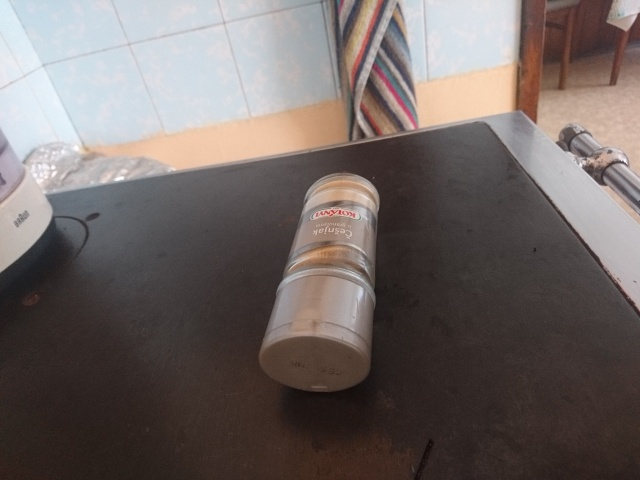Kotanyi Garlic Granules 70g: (255, 170, 383, 396)
